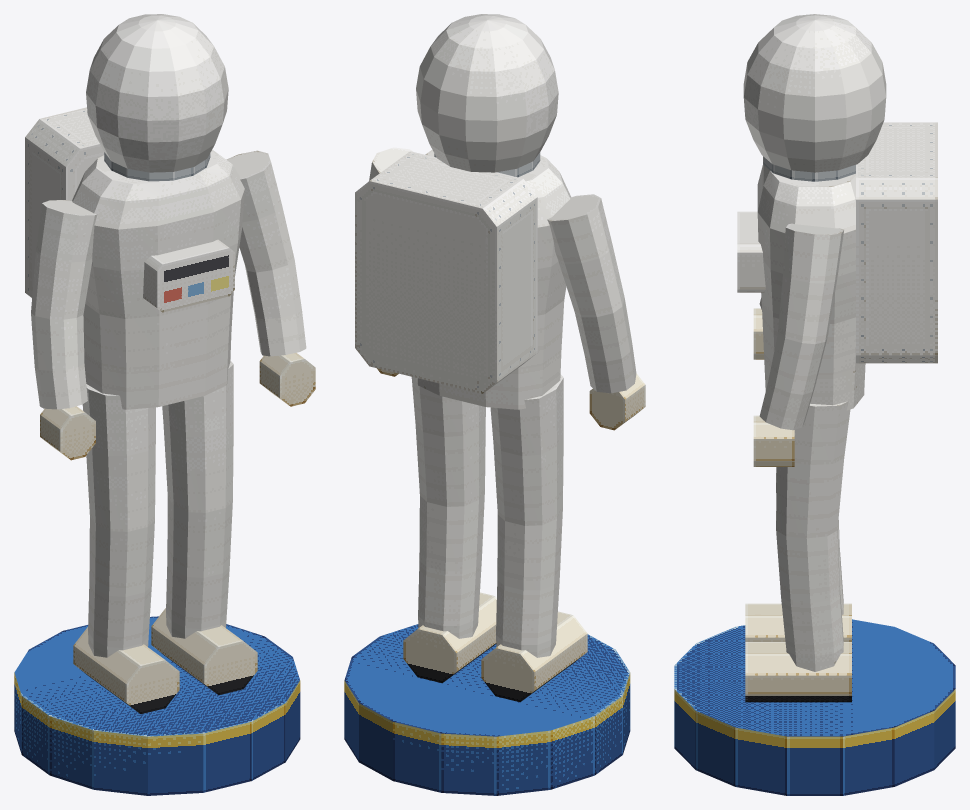
File: astronaut.glb
3 renders of one model, left to right at view 1: azimuth 30°, elevation 25°; view 2: azimuth 150°, elevation 25°; view 3: azimuth 270°, elevation 25°, orthographic.
Parts seen in each view (by area): view 1: astronaut; view 2: astronaut; view 3: astronaut.
Boxes of the visible parts, x1=… form: astronaut: x1=14, y1=14, x2=315, y2=795; astronaut: x1=344, y1=14, x2=645, y2=795; astronaut: x1=674, y1=14, x2=955, y2=795.
Size of the model in its own units: 0.7387 by 1.93 by 0.6866.
Materials: 1 (1 with a texture image).
